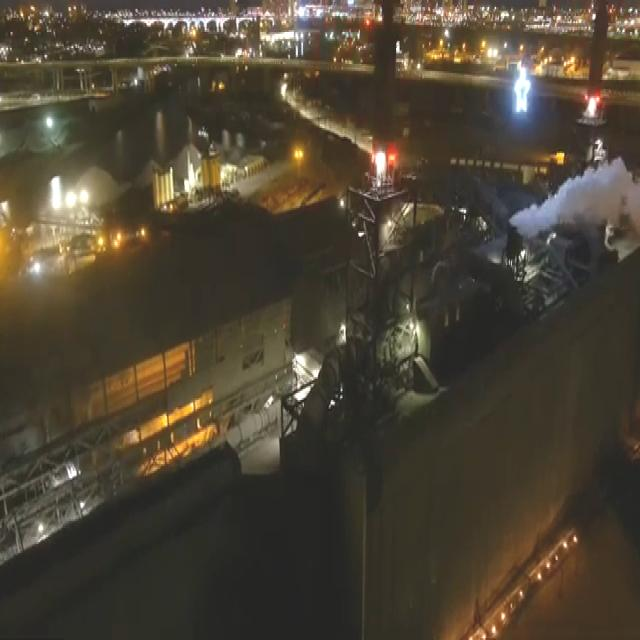smoke: (511, 144, 640, 272)
